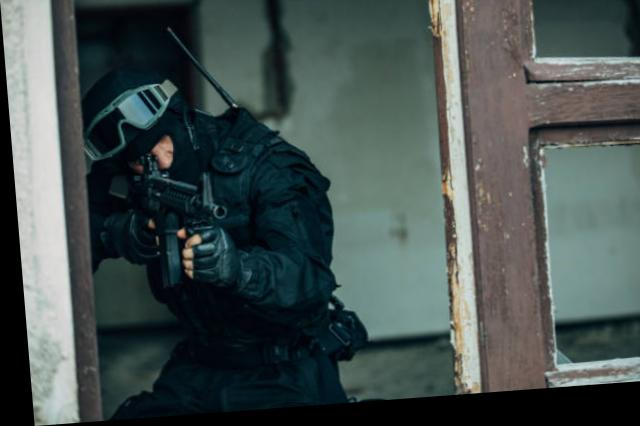other: (81, 70, 339, 407)
